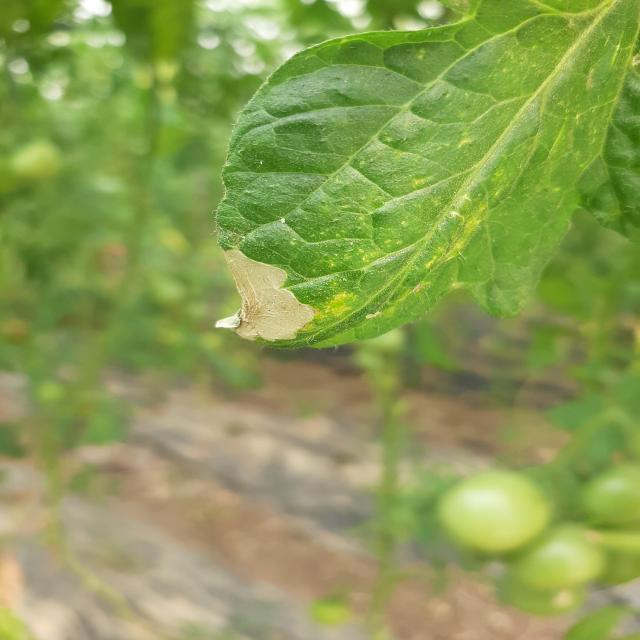Tuta absoluta: (225, 242, 316, 345)
